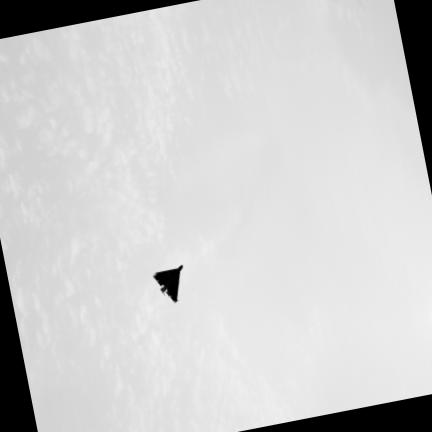Shahed: (153, 265, 181, 301)
